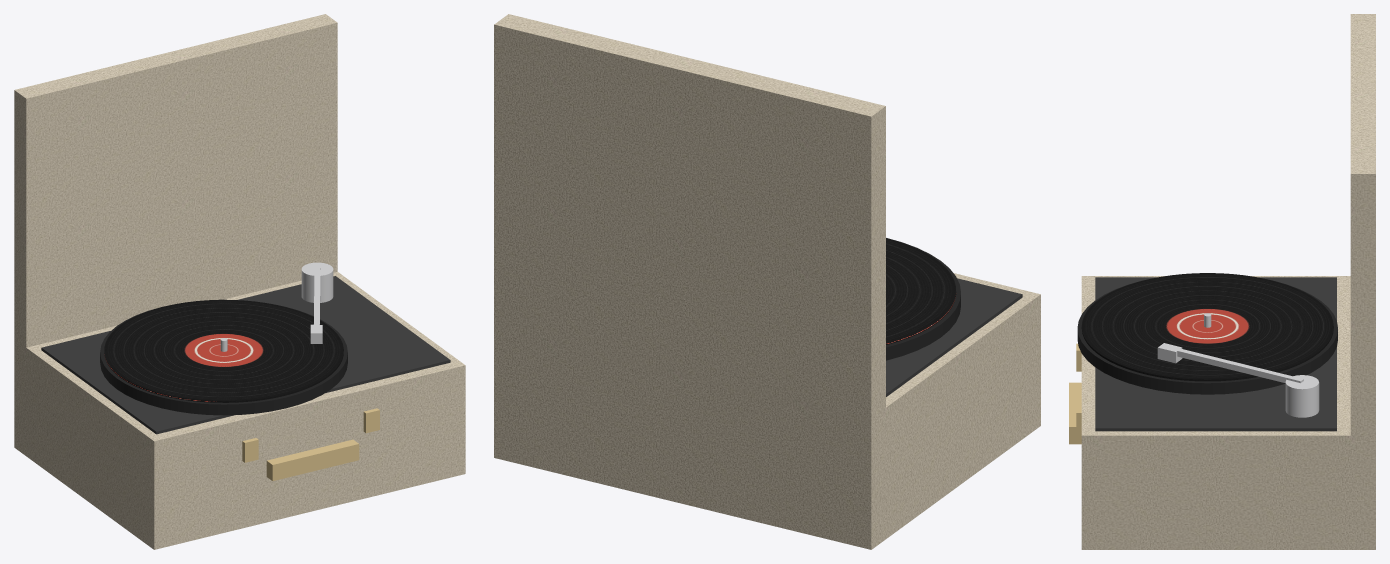
The model's file is obj-suitcase-record-player-cream.glb.
3 renders of one model, left to right at view 1: azimuth 30°, elevation 25°; view 2: azimuth 150°, elevation 25°; view 3: azimuth 270°, elevation 25°, orthographic. The views are drawn at different scales.
Parts seen in each view (by area): view 1: obj-suitcase-record-player-cream; view 2: obj-suitcase-record-player-cream; view 3: obj-suitcase-record-player-cream.
Boxes of the visible parts, left/top/right/bottom form: obj-suitcase-record-player-cream: left=14, top=14, right=465, bottom=549; obj-suitcase-record-player-cream: left=494, top=14, right=1040, bottom=549; obj-suitcase-record-player-cream: left=1069, top=14, right=1375, bottom=549.
Bounding box in the file's own units: 0.36 × 0.395 × 0.292.
6 materials, 2 textured.
